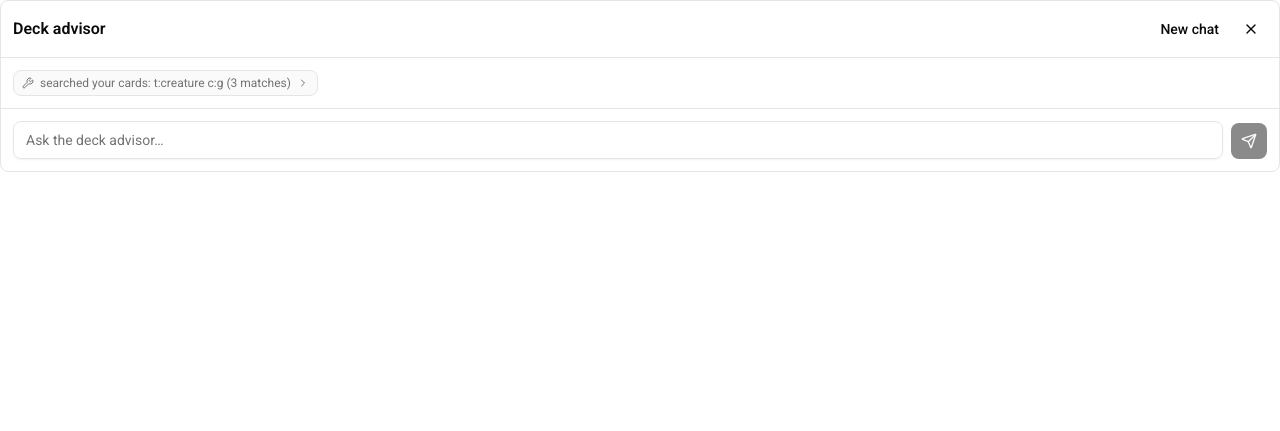
Test: AiChatPanel › expands a tool chip to show the raw input and result
Step 1. Click the button with test id "tool-chip" → (165, 83), box [13, 70, 318, 96]
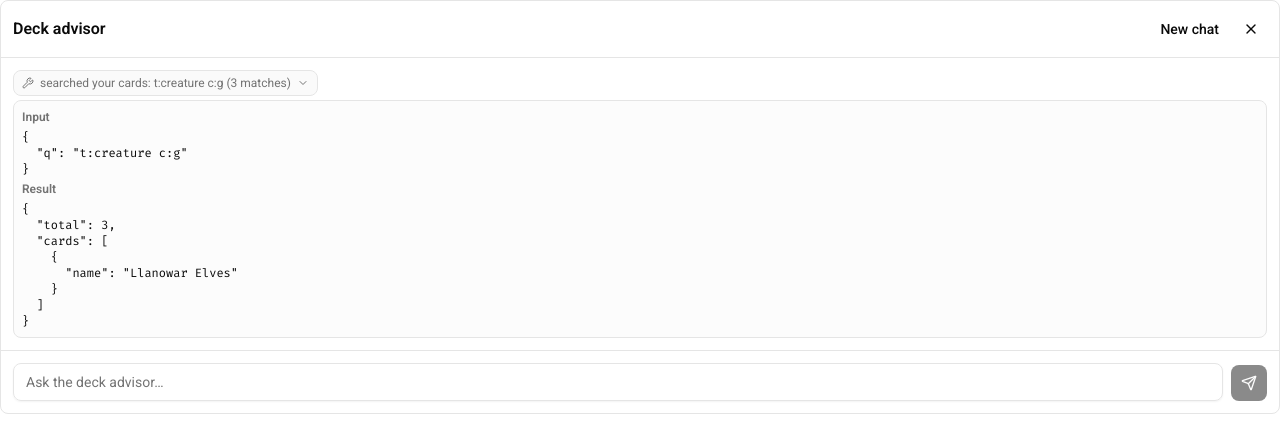
Expected: the element with test id "tool-chip-details" shows "\"q\": \"t:creature c:g\"", [22, 129, 188, 177]
Expected: the element with test id "tool-chip-details" shows "\"name\": \"Llanowar Elves\"", [22, 201, 238, 329]
Step 2. Click the button with test id "tool-chip" → (165, 83), box [13, 70, 318, 96]
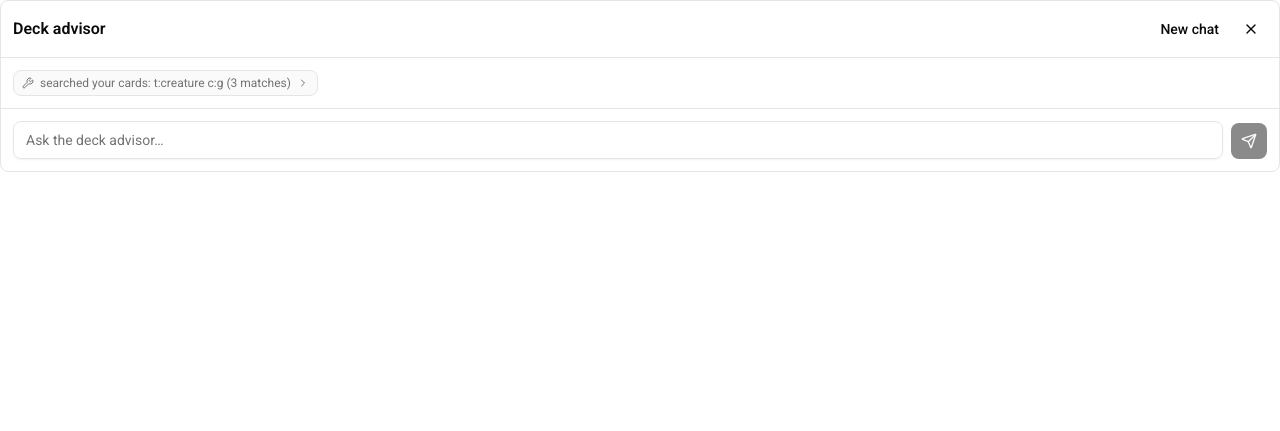
Expected: the element with test id "tool-chip-details" is gone
